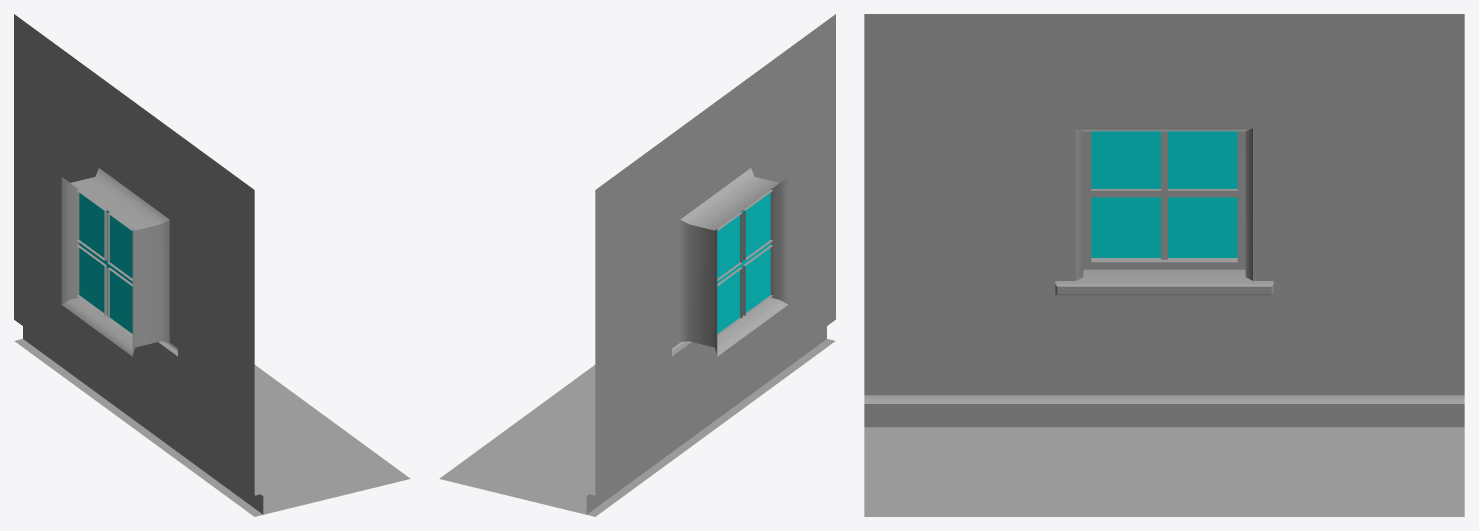
Rendered from structure Unity Export.fbx.
3 renders of one model, left to right at view 1: azimuth 30°, elevation 25°; view 2: azimuth 150°, elevation 25°; view 3: azimuth 270°, elevation 25°, orthographic. The views are drawn at different scales.
Visible parts, largest first — view 1: wall_window1, floor_plane1, window_Pane1, window_sil1; view 2: wall_window1, floor_plane1, window_Pane1, window_sil1; view 3: wall_window1, floor_plane1, window_Pane1, window_sil1.
Boxes of the visible parts, <box> form: wall_window1: <box>14,14,263,514</box>; floor_plane1: <box>14,339,410,516</box>; window_Pane1: <box>79,193,132,333</box>; window_sil1: <box>76,190,132,336</box>; wall_window1: <box>586,14,835,514</box>; floor_plane1: <box>439,339,835,516</box>; window_Pane1: <box>717,193,770,333</box>; window_sil1: <box>717,190,773,336</box>; wall_window1: <box>864,14,1464,427</box>; floor_plane1: <box>864,427,1464,516</box>; window_Pane1: <box>1091,131,1237,257</box>; window_sil1: <box>1083,131,1245,269</box>.
Bounding box in the file's own units: 186 × 300 × 400.
